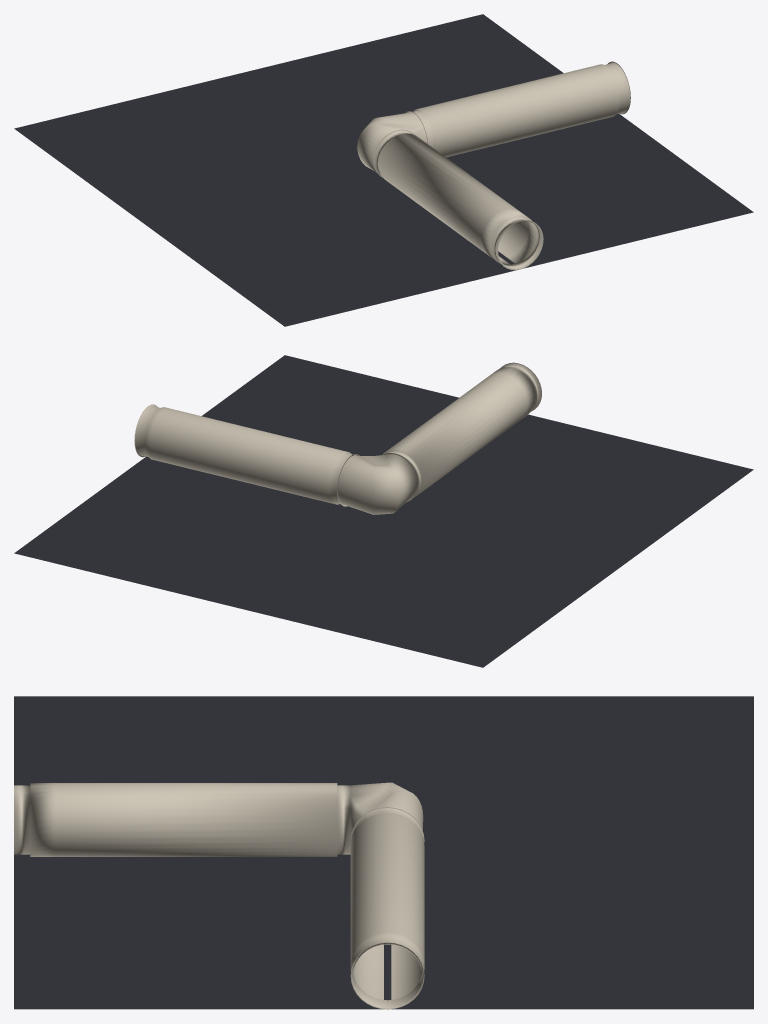
The model's file is c_tile.glb.
3 renders of one model, top to bottom at view 1: azimuth 30°, elevation 25°; view 2: azimuth 150°, elevation 25°; view 3: azimuth 270°, elevation 25°, orthographic. The views are drawn at different scales.
Parts seen in each view (by area): view 1: Plane.001, Cylinder.003; view 2: Plane.001, Cylinder.003; view 3: Plane.001, Cylinder.003.
Part boxes in pixels (x1,y1,x2,y2): Plane.001: [14, 14, 753, 326]; Cylinder.003: [357, 61, 630, 270]; Plane.001: [14, 355, 753, 667]; Cylinder.003: [134, 362, 541, 514]; Plane.001: [14, 696, 753, 1009]; Cylinder.003: [14, 782, 424, 1009].
Bounding box in the file's own units: 0.5001 × 0.05 × 0.5.
